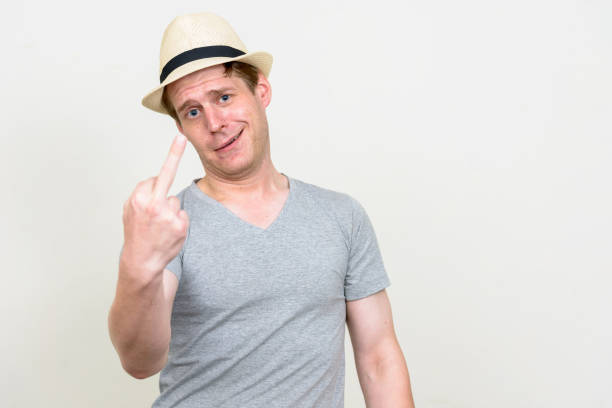insulting_gesture: (116, 129, 193, 284)
